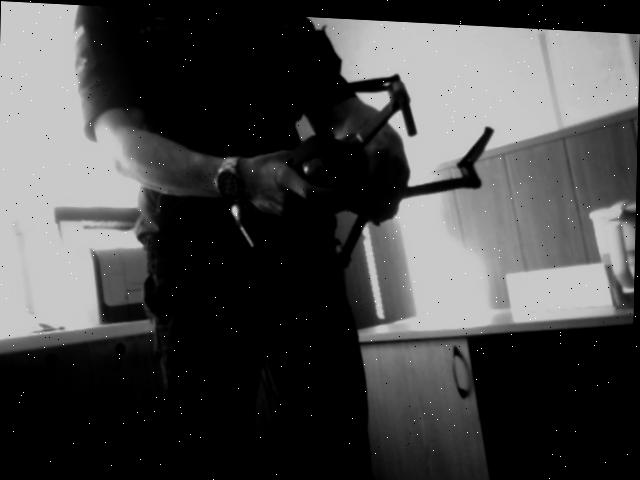drone: (199, 51, 508, 282)
